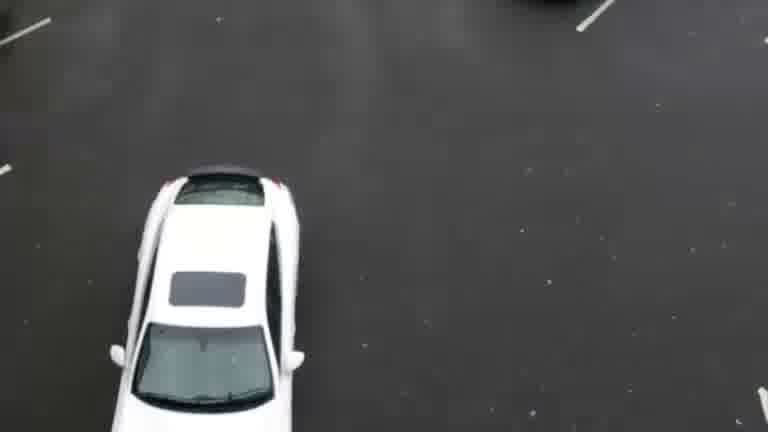car: (92, 164, 320, 429)
